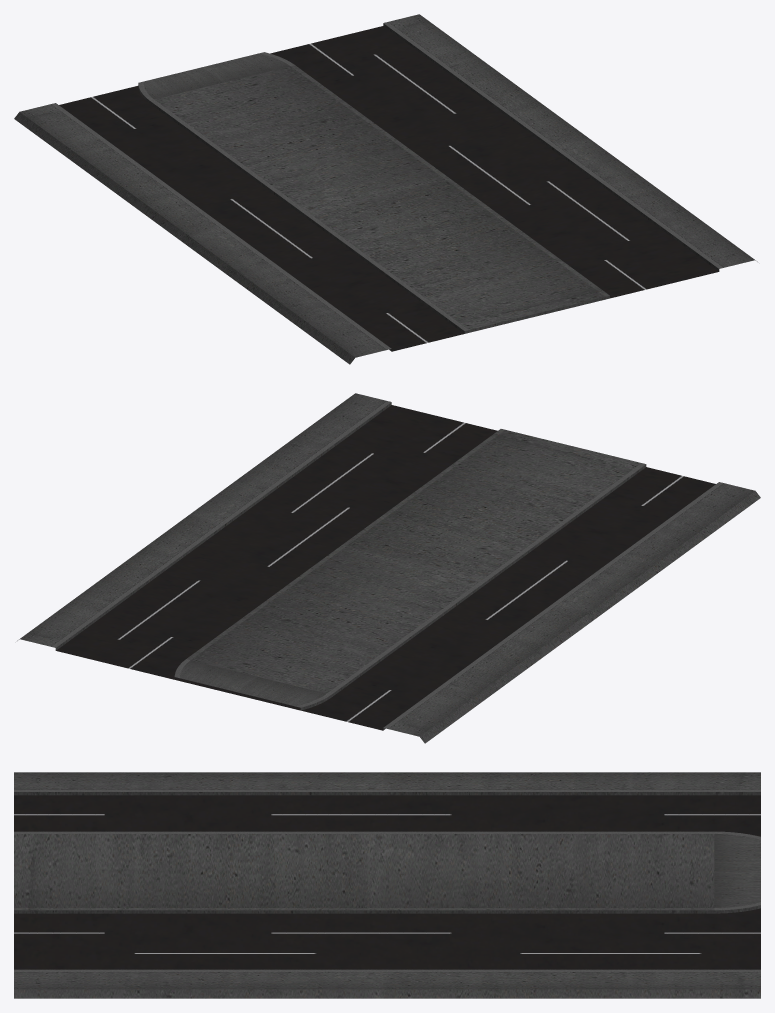
File: RJs_Road Pass 2+4+2 Basic Segment_UT.fbx
3 renders of one model, top to bottom at view 1: azimuth 30°, elevation 25°; view 2: azimuth 150°, elevation 25°; view 3: azimuth 270°, elevation 25°, orthographic. The views are drawn at different scales.
Parts seen in each view (by area): view 1: plane_s; view 2: plane_s; view 3: plane_s.
Part boxes in pixels (x1=…): plane_s: x1=14, y1=14, x2=757, y2=364; plane_s: x1=17, y1=393, x2=760, y2=743; plane_s: x1=14, y1=772, x2=760, y2=998.
Bounding box in the file's own units: 4520 × 6400 × 60.1.
